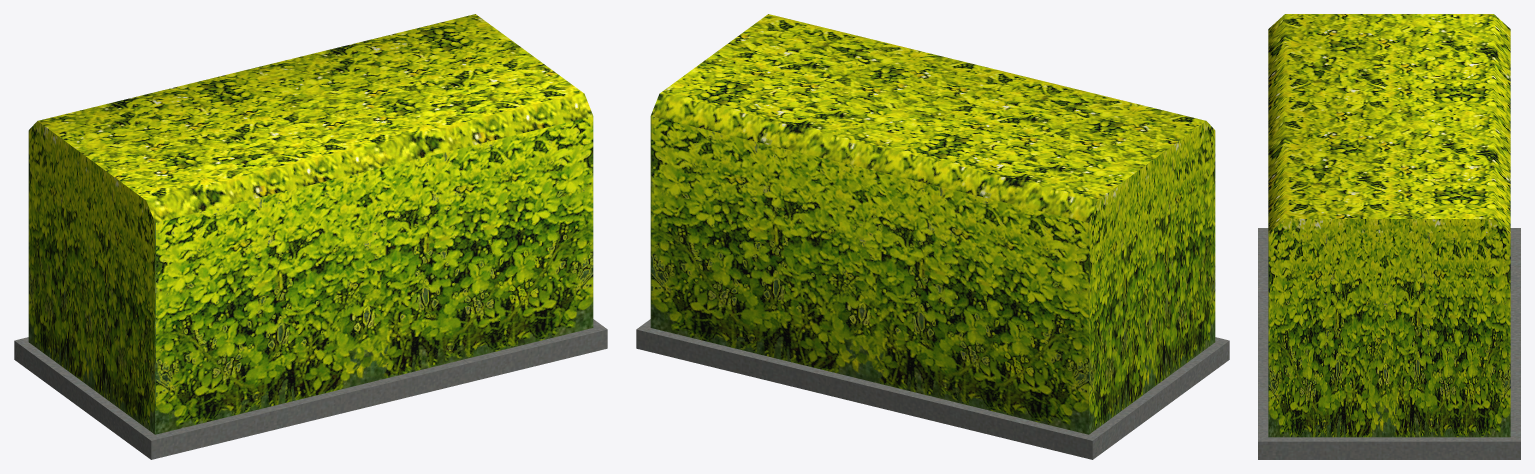
File: 绿化带.gltf
3 views of the same model, side by side, from view 1: azimuth 30°, elevation 25°; view 2: azimuth 150°, elevation 25°; view 3: azimuth 270°, elevation 25° (orthographic). The views are drawn at different scales.
Visible parts, largest first — view 1: Box001, 图形001; view 2: Box001, 图形001; view 3: Box001, 图形001.
Boxes of the visible parts, x1,y1,x2,y2 form: Box001: [28, 14, 593, 434]; 图形001: [14, 319, 607, 459]; Box001: [650, 14, 1215, 434]; 图形001: [636, 319, 1229, 459]; Box001: [1268, 14, 1510, 437]; 图形001: [1258, 228, 1520, 459].
Size of the model in its own units: 1.25 by 0.6458 by 0.65.
3 materials, 3 textured.
